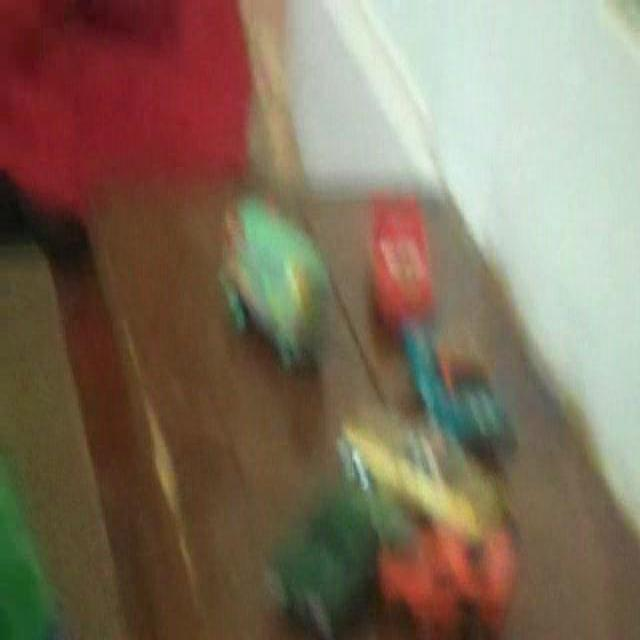other: (8, 14, 276, 205), (337, 402, 526, 606)
